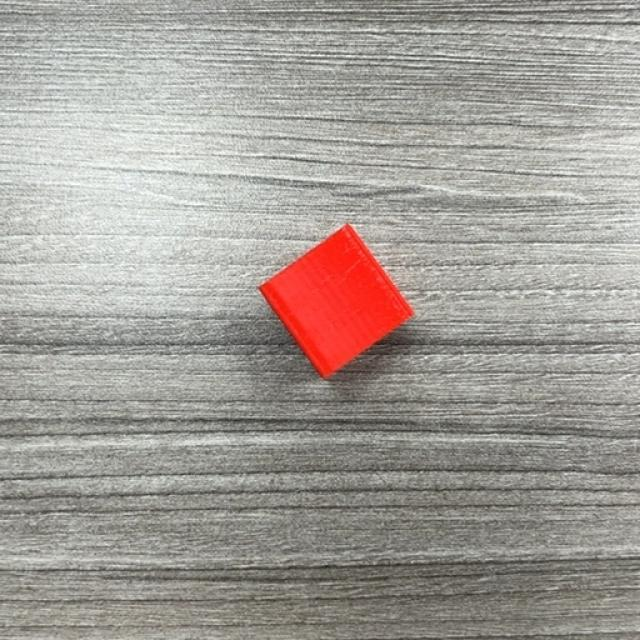Rojo: (258, 225, 416, 380)
